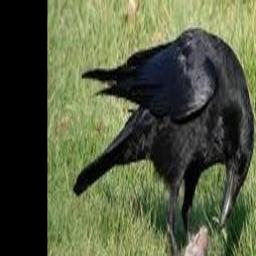Crow: (74, 27, 253, 256)
